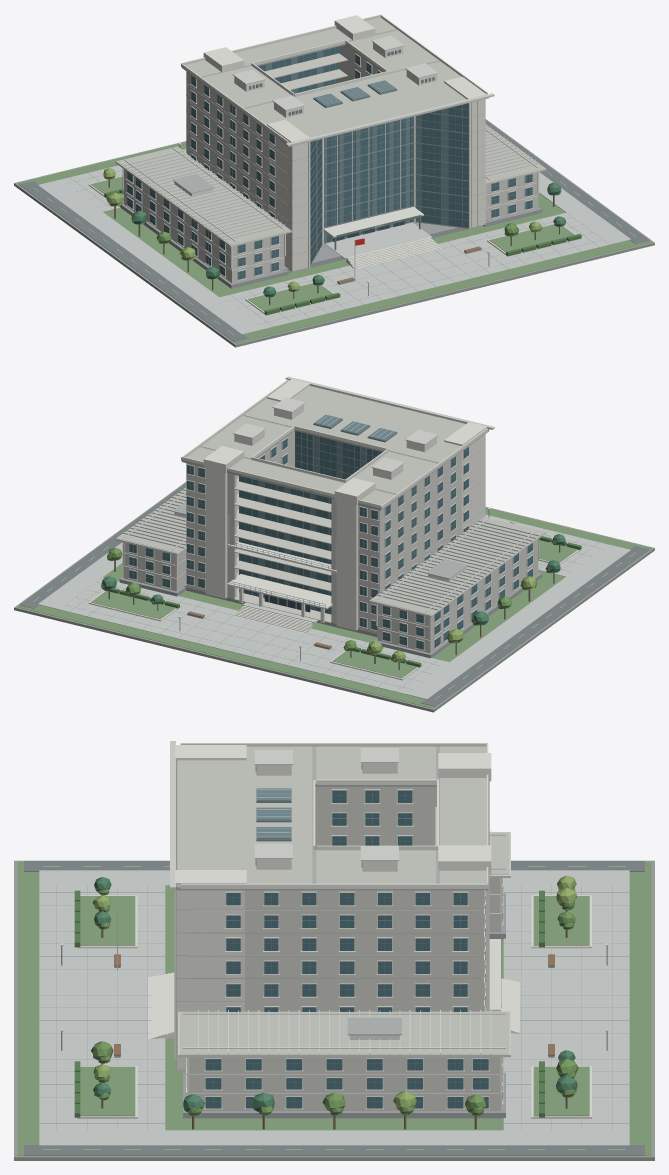
The model's file is library_jinming.glb.
3 views of the same model, one above another, from view 1: azimuth 30°, elevation 25°; view 2: azimuth 150°, elevation 25°; view 3: azimuth 270°, elevation 25° (orthographic). The views are drawn at different scales.
Visible parts, largest first — view 1: library_site_00_paving, library_roof_00_roof_deck, library_site_00_grass, library_roof_00_stone_light, library_roof_00_trim, library_site_00_road, library_building_00_stone_light, library_site_00_site_edge, library_roof_00_roof_edge, library_building_03_glass, library_building_02_glass, library_building_06_glass (+46 smaller); view 2: library_roof_00_roof_deck, library_site_00_paving, library_site_00_grass, library_roof_00_stone_light, library_roof_00_trim, library_site_00_road, library_site_00_site_edge, library_roof_00_roof_edge, library_building_02_stone, library_building_01_stone, library_building_02_stone_light, library_building_03_stone (+43 smaller); view 3: library_site_00_paving, library_roof_00_roof_deck, library_site_00_grass, library_roof_00_stone_light, library_site_00_road, library_site_00_site_edge, library_building_07_stone, library_building_08_stone, library_building_03_stone, library_building_06_stone, library_roof_00_roof_edge, library_building_02_stone (+36 smaller).
Boxes of the visible parts, <box> form: library_site_00_paving: <box>38,149,630,334</box>; library_roof_00_roof_deck: <box>117,17,544,244</box>; library_site_00_grass: <box>17,142,650,343</box>; library_roof_00_stone_light: <box>174,14,487,195</box>; library_roof_00_trim: <box>122,80,539,241</box>; library_site_00_road: <box>19,120,649,341</box>; library_building_00_stone_light: <box>122,102,539,269</box>; library_site_00_site_edge: <box>14,119,654,347</box>; library_roof_00_roof_edge: <box>115,35,546,247</box>; library_building_03_glass: <box>127,154,532,253</box>; library_building_02_glass: <box>127,184,532,266</box>; library_building_06_glass: <box>191,78,468,184</box>; library_roof_00_roof_deck: <box>117,386,544,614</box>; library_site_00_paving: <box>38,514,630,699</box>; library_site_00_grass: <box>18,508,651,708</box>; library_roof_00_stone_light: <box>174,379,487,581</box>; library_roof_00_trim: <box>122,415,539,611</box>; library_site_00_road: <box>19,483,649,706</box>; library_site_00_site_edge: <box>14,482,654,712</box>; library_roof_00_roof_edge: <box>115,376,546,617</box>; library_building_02_stone: <box>123,549,538,639</box>; library_building_01_stone: <box>123,562,538,653</box>; library_building_02_stone_light: <box>128,562,533,637</box>; library_building_03_stone: <box>124,527,537,626</box>; library_site_00_paving: <box>39,870,629,1145</box>; library_roof_00_roof_deck: <box>177,746,509,1054</box>; library_site_00_grass: <box>17,862,651,1155</box>; library_roof_00_stone_light: <box>175,742,491,1039</box>; library_site_00_road: <box>24,861,644,1155</box>; library_site_00_site_edge: <box>14,860,654,1160</box>; library_building_07_stone: <box>245,808,483,933</box>; library_building_08_stone: <box>245,787,483,910</box>; library_building_03_stone: <box>189,878,499,1073</box>; library_building_06_stone: <box>245,831,483,956</box>; library_roof_00_roof_edge: <box>170,741,510,1057</box>; library_building_02_stone: <box>188,894,500,1092</box>.
Bounding box in the file's own units: 139 × 45.63 × 127.
